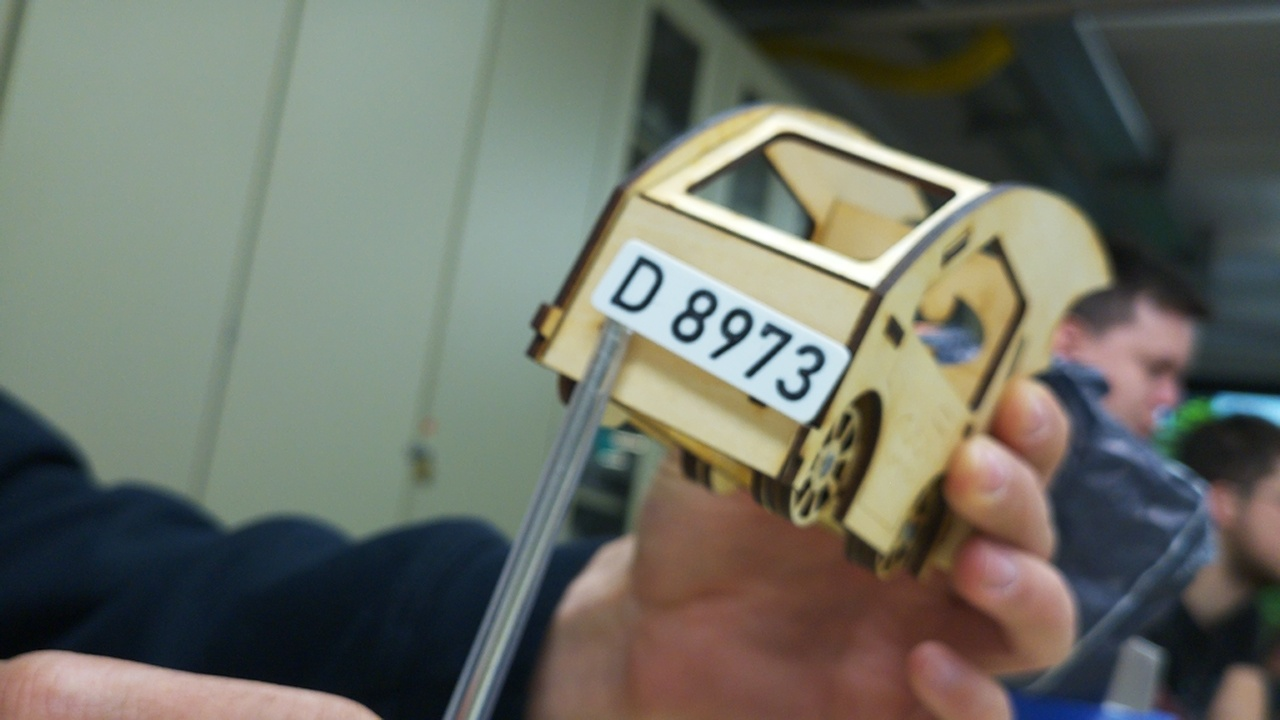license_plate: (586, 235, 854, 428)
